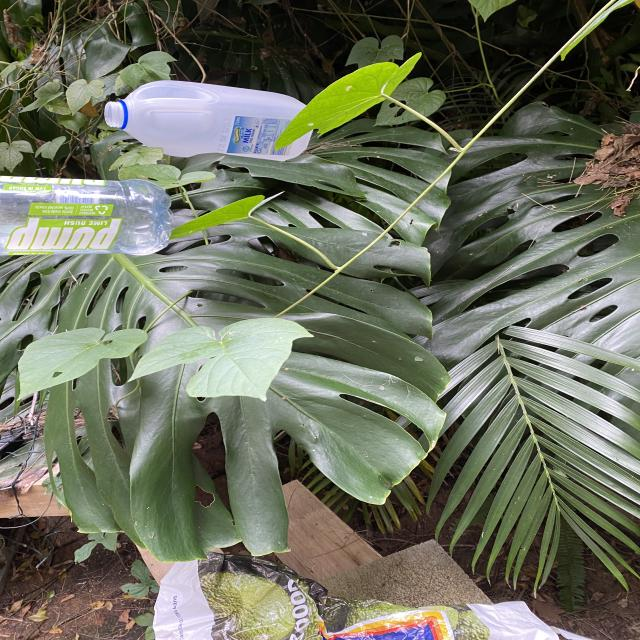bag: (153, 552, 592, 640)
bottle: (104, 80, 314, 162), (0, 176, 172, 256)
